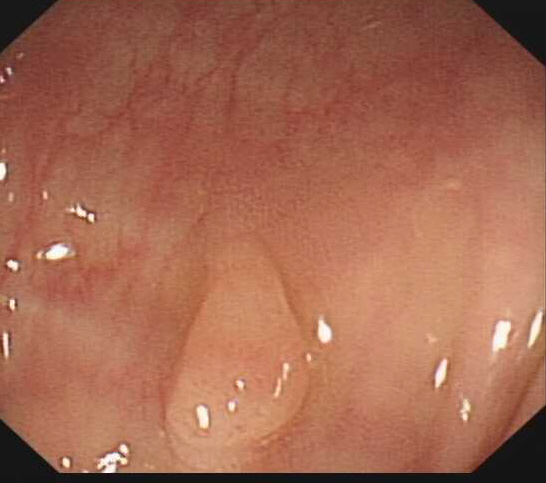adenoma: (162, 251, 311, 451)
